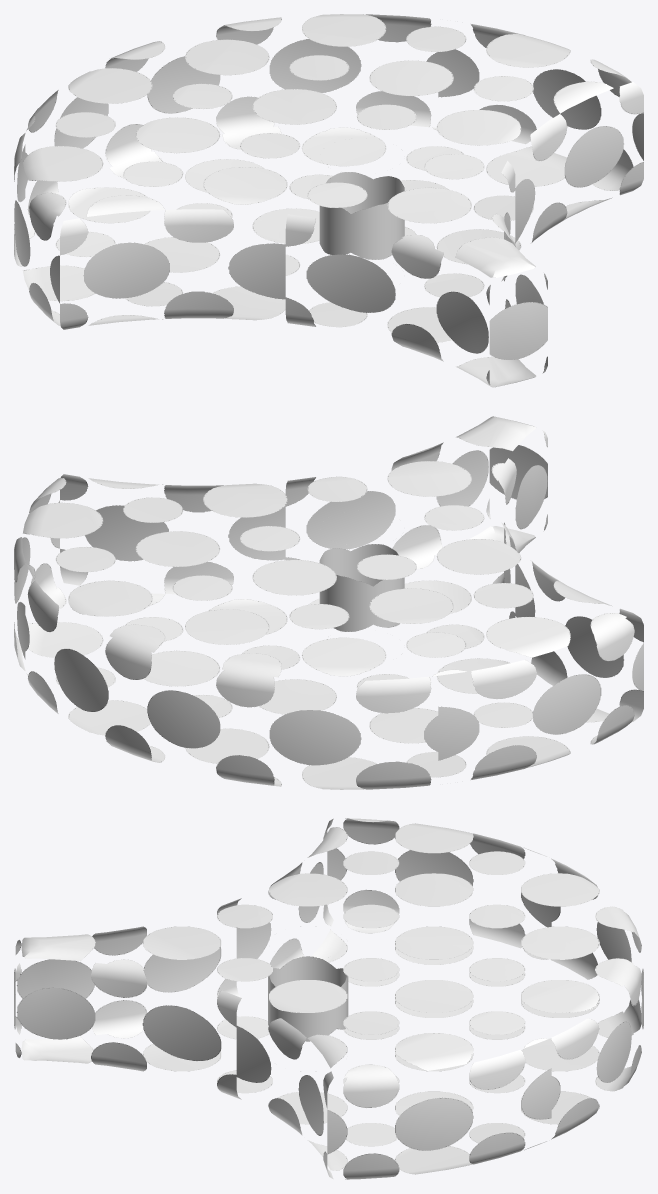
3 views of the same model, one above another, from view 1: azimuth 30°, elevation 25°; view 2: azimuth 150°, elevation 25°; view 3: azimuth 270°, elevation 25° (orthographic). The views are drawn at different scales.
Visible parts, largest first — view 1: OriginalScallop.005; view 2: OriginalScallop.005; view 3: OriginalScallop.005.
Part boxes in pixels (left/top/right/bottom): OriginalScallop.005: left=14, top=14, right=643, bottom=387; OriginalScallop.005: left=14, top=416, right=643, bottom=789; OriginalScallop.005: left=14, top=818, right=643, bottom=1179.
Size of the model in its own units: 368 by 72.02 by 368.
